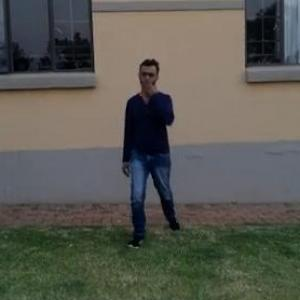follow: (122, 57, 178, 240)
